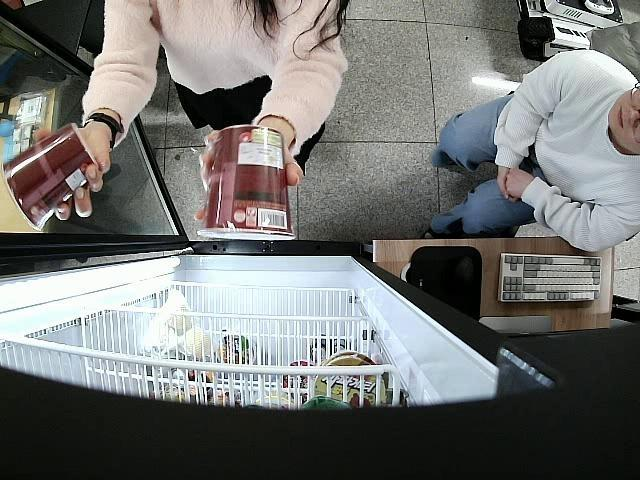06_nuguri_S: (196, 123, 297, 242), (2, 127, 100, 232)
